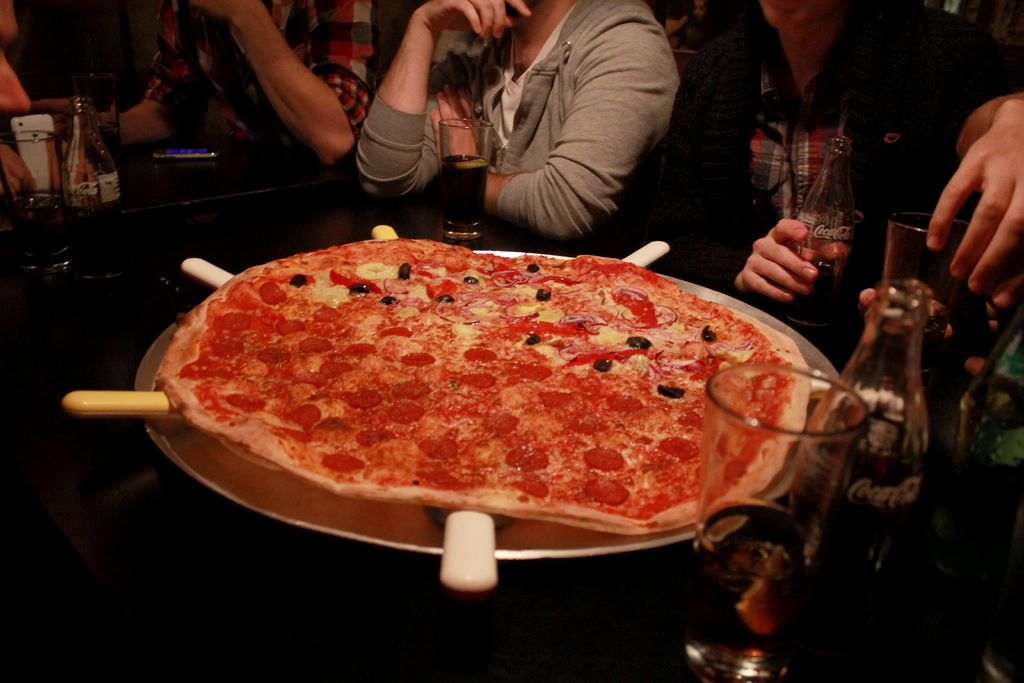Pizza: (82, 230, 741, 525)
